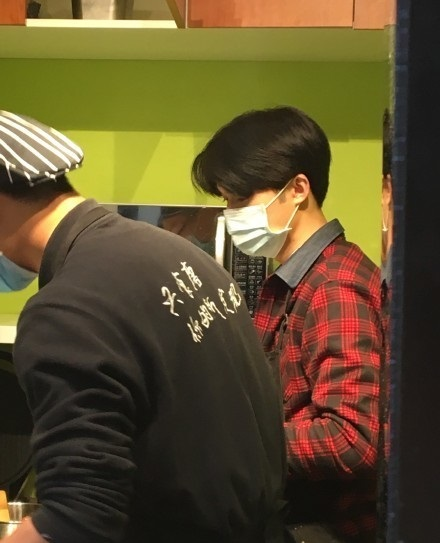face_mask: (224, 170, 285, 258)
